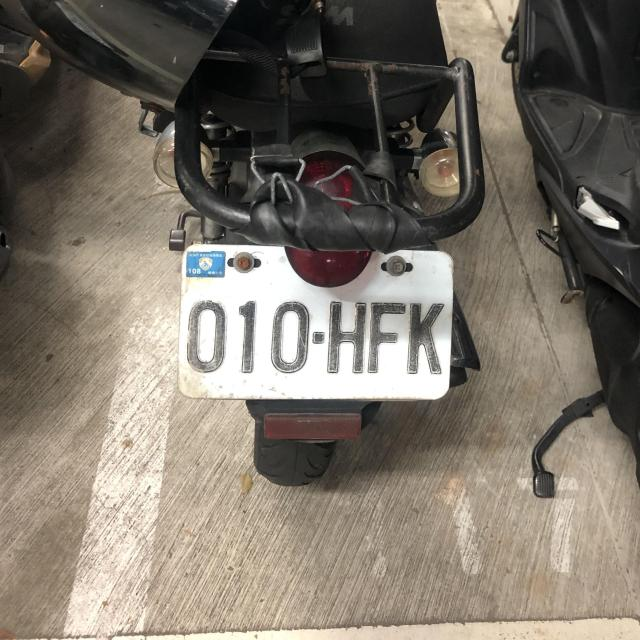W: (170, 241, 458, 406)
